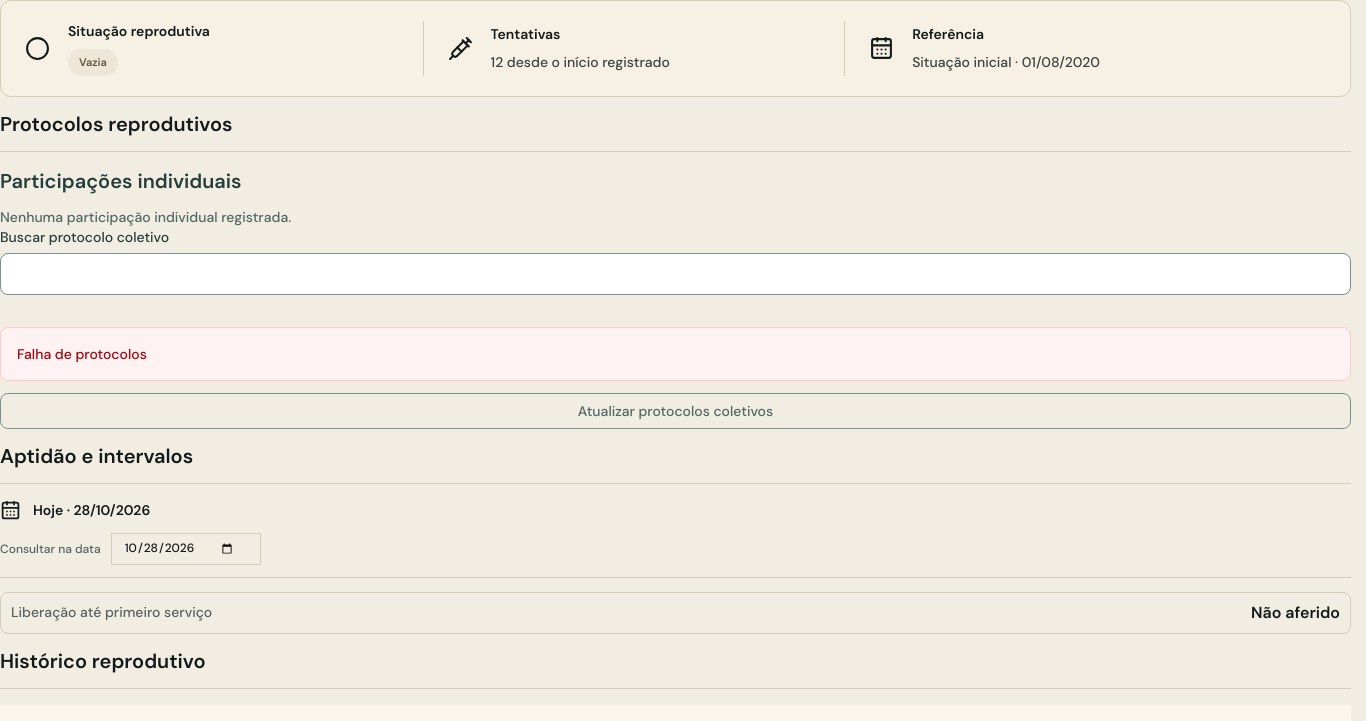
Test: distingue falha de protocolos e vazio, permitindo nova tentativa sem perder histórico
Expected: the text "Falha de protocolos" is shown, x1=0 y1=326 x2=1351 y2=380
Expected: the text "Nenhuma participação coletiva" is not shown
Step 1. Click the button "Atualizar protocolos coletivos" → (676, 410), box x1=0 y1=392 x2=1351 y2=428
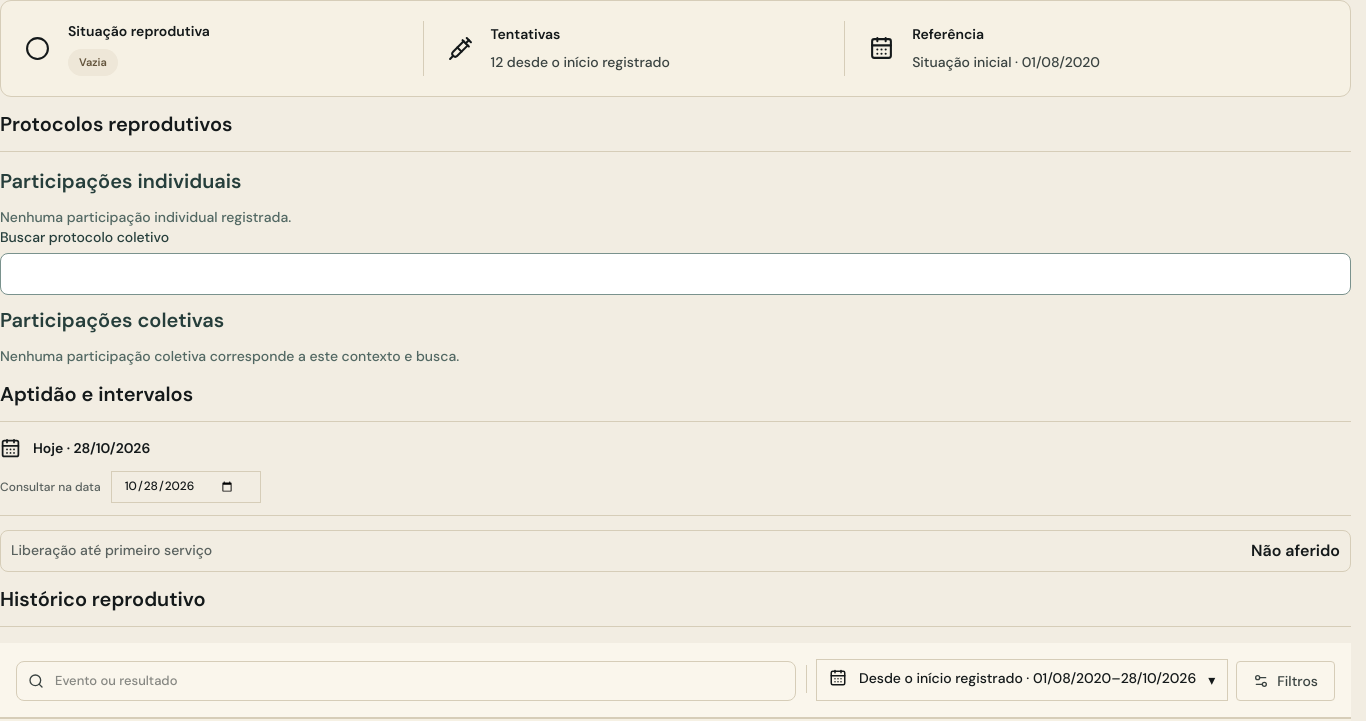
Result: the text "Nenhuma participação coletiva" is shown at x1=0 y1=346 x2=459 y2=364
